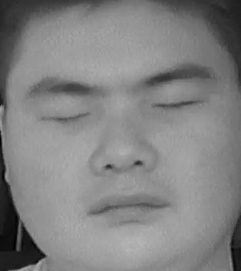blink: (38, 99, 92, 135), (152, 88, 203, 124)
mouth: (83, 183, 177, 230)
